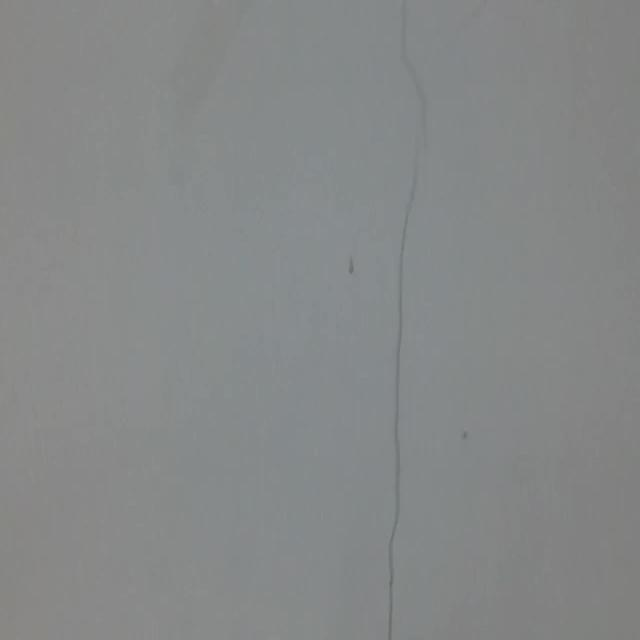Crack: (374, 0, 432, 640)
